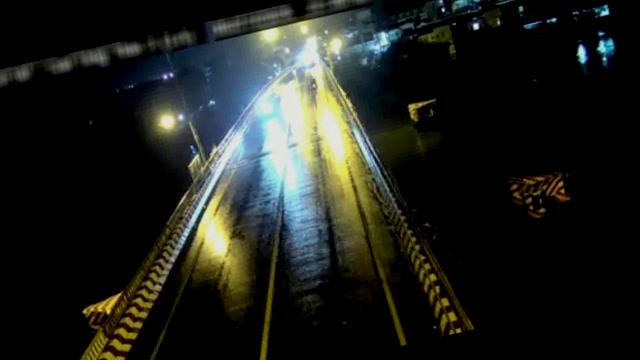Bike: (308, 74, 321, 96)
